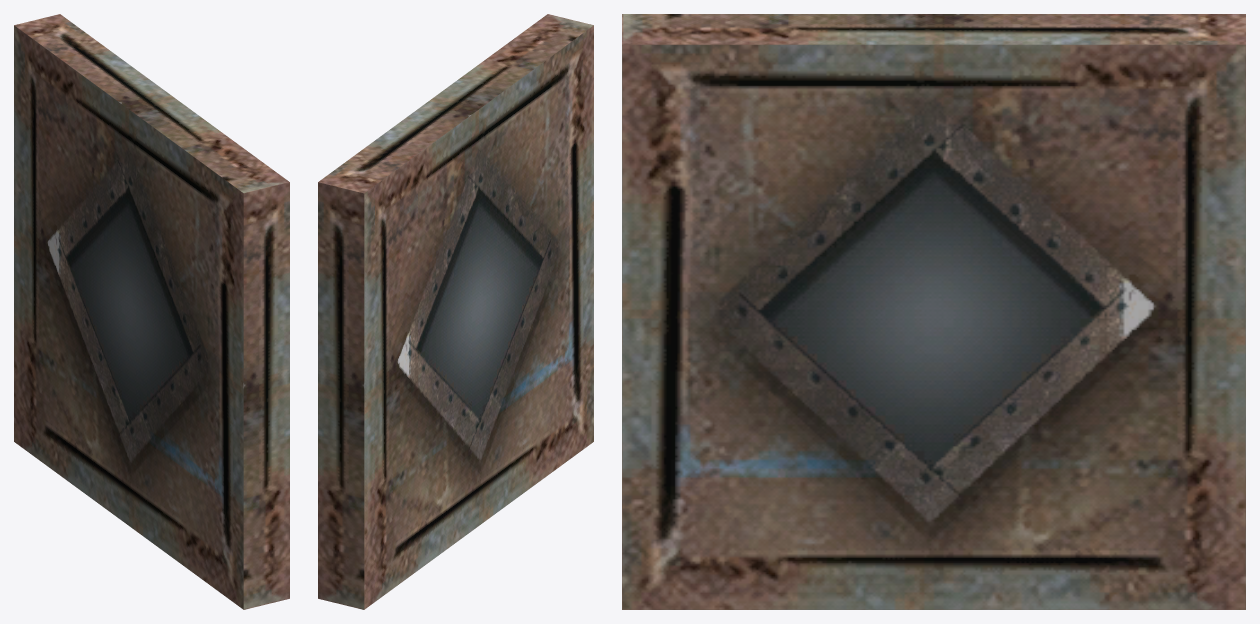
File: switch_metal.glb
3 renders of one model, left to right at view 1: azimuth 30°, elevation 25°; view 2: azimuth 150°, elevation 25°; view 3: azimuth 270°, elevation 25°, orthographic. The views are drawn at different scales.
Visible parts, largest first — view 1: Cube; view 2: Cube; view 3: Cube.
Boxes of the visible parts, box(x1,y1,x2,y2) form: Cube: box(14, 14, 289, 609); Cube: box(318, 14, 593, 609); Cube: box(622, 14, 1245, 609).
Bounding box in the file's own units: 0.1484 × 1.28 × 1.28.
Materials: 1 (1 with a texture image).
